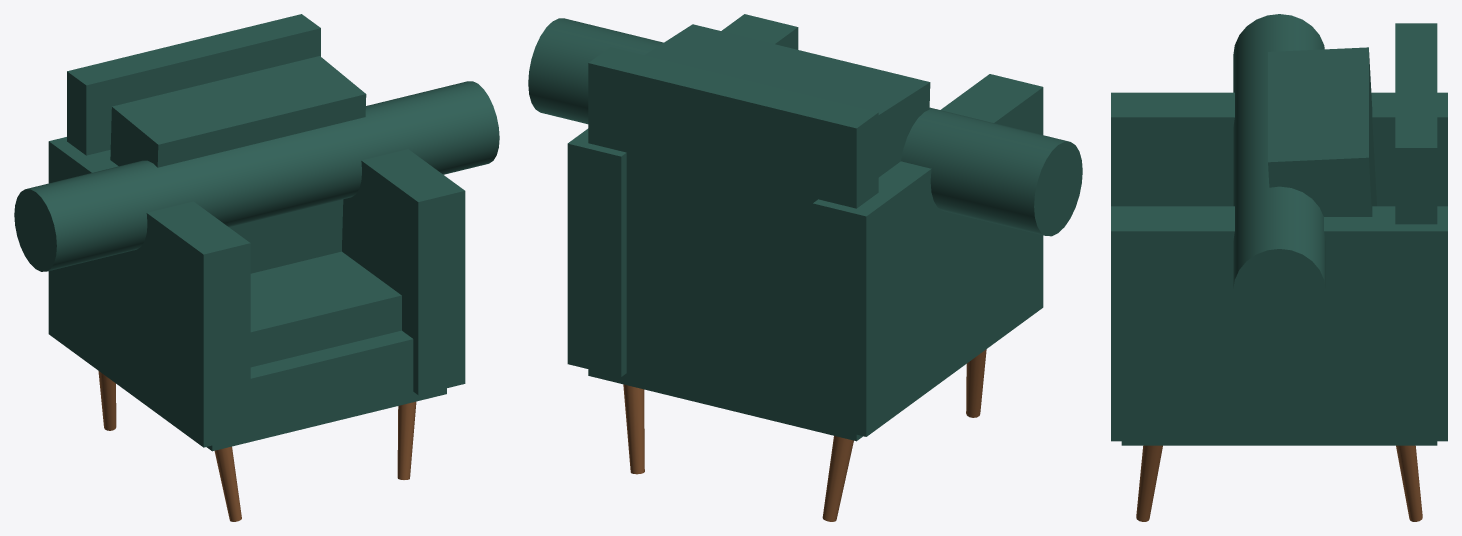
Rendered from longchair.glb.
The picture shows the model from 3 angles, left to right: view 1: azimuth 30°, elevation 25°; view 2: azimuth 150°, elevation 25°; view 3: azimuth 270°, elevation 25°; orthographic projection. The views are drawn at different scales.
Visible parts, largest first — view 1: ArmrestL, BackCushion, ArmrestR, BolsterL, BolsterR, BackPanel, Frame, SeatCushion, Leg3, Leg2, Leg0; view 2: BackPanel, ArmrestL, BolsterL, ArmrestR, Frame, BackCushion, BolsterR, Leg1, Leg0, Leg2; view 3: ArmrestR, ArmrestL, BackCushion, BolsterR, BackPanel, BolsterL, Frame, Leg1, Leg3.
Boxes of the visible parts, <box> form: ArmrestL: <box>48,137,250,447</box>; BackCushion: <box>110,56,366,273</box>; ArmrestR: <box>342,149,465,395</box>; BolsterL: <box>14,141,284,271</box>; BolsterR: <box>256,81,499,216</box>; BackPanel: <box>67,14,320,155</box>; Frame: <box>206,330,446,451</box>; SeatCushion: <box>250,251,401,367</box>; Leg3: <box>397,401,416,479</box>; Leg2: <box>214,446,241,521</box>; Leg0: <box>98,371,116,430</box>; BackPanel: <box>588,47,878,358</box>; ArmrestL: <box>812,74,1043,436</box>; BolsterL: <box>901,107,1082,236</box>; ArmrestR: <box>567,14,798,376</box>; Frame: <box>588,313,862,441</box>; BackCushion: <box>645,24,930,177</box>; BolsterR: <box>528,18,663,124</box>; Leg1: <box>623,384,644,474</box>; Leg0: <box>822,436,853,521</box>; Leg2: <box>966,349,986,417</box>; ArmrestR: <box>1111,206,1447,441</box>; ArmrestL: <box>1111,92,1447,206</box>; BackCushion: <box>1268,47,1376,216</box>; BolsterR: <box>1233,130,1325,332</box>; BackPanel: <box>1395,23,1437,224</box>; BolsterL: <box>1233,14,1324,174</box>; Frame: <box>1121,441,1437,445</box>; Leg1: <box>1396,445,1422,521</box>; Leg3: <box>1136,445,1162,521</box>.
Bounding box in the file's own units: 1.32 × 1.02 × 0.8.
